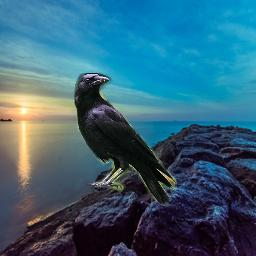Crow: (74, 73, 177, 206)
